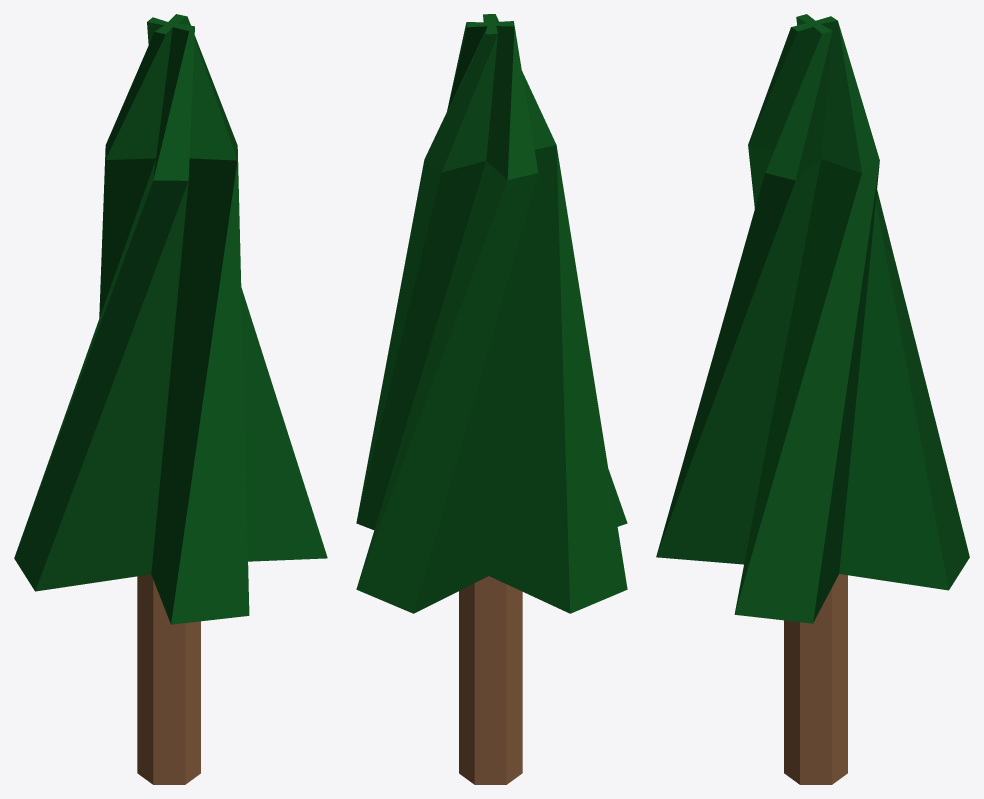
Rendered from tree-summer-complete-9-033.glb.
3 renders of one model, left to right at view 1: azimuth 30°, elevation 25°; view 2: azimuth 150°, elevation 25°; view 3: azimuth 270°, elevation 25°, orthographic.
Parts seen in each view (by area): view 1: Tree 9_92; view 2: Tree 9_92; view 3: Tree 9_92.
Boxes of the visible parts, <box> form: Tree 9_92: <box>14,14,327,784</box>; Tree 9_92: <box>356,14,627,784</box>; Tree 9_92: <box>656,14,969,784</box>.
Bounding box in the file's own units: 0.7312 × 1.93 × 0.7312.
